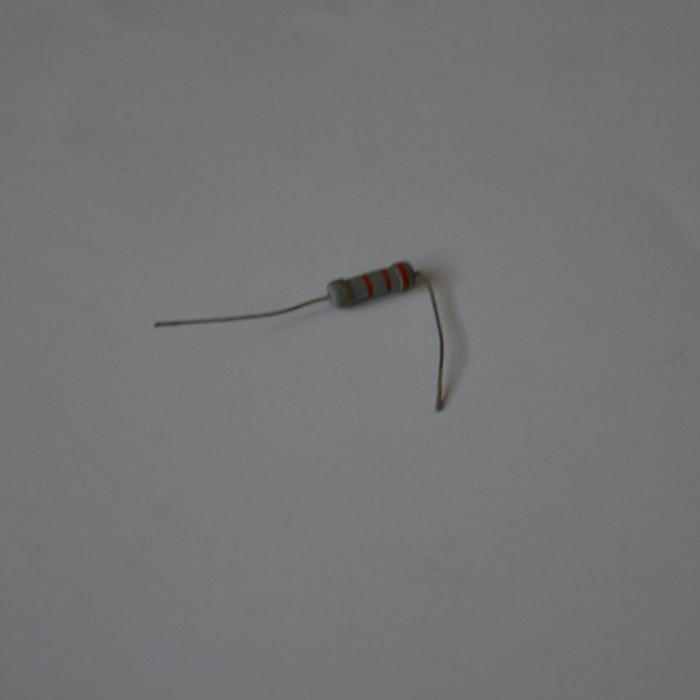resistor: (327, 259, 418, 308)
